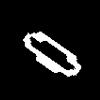chain: (23, 32, 80, 75)
